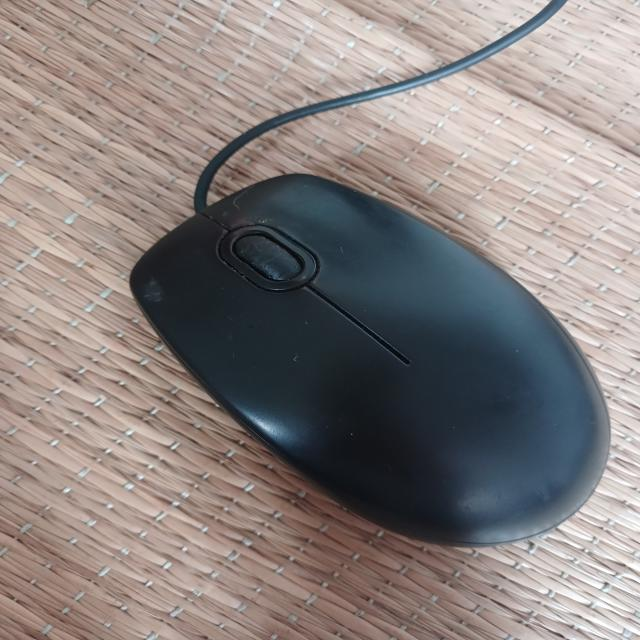mouse: (107, 166, 623, 544)
